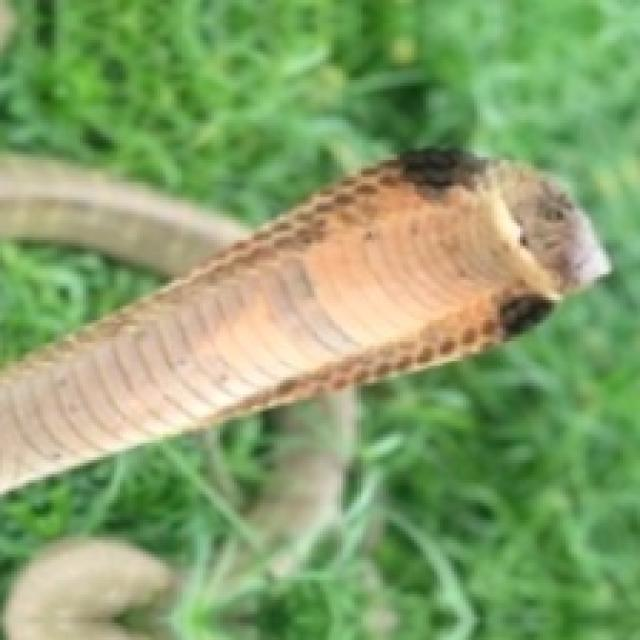king cobra: (0, 151, 606, 543), (6, 540, 177, 637)
